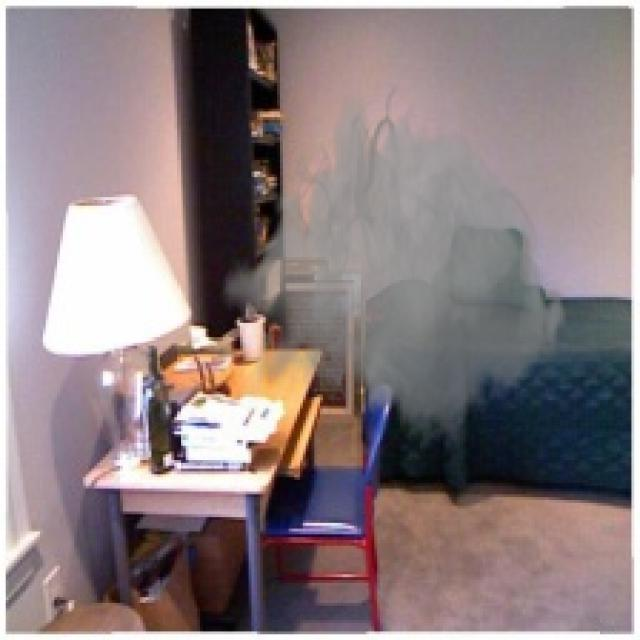smoke: (220, 80, 569, 474)
